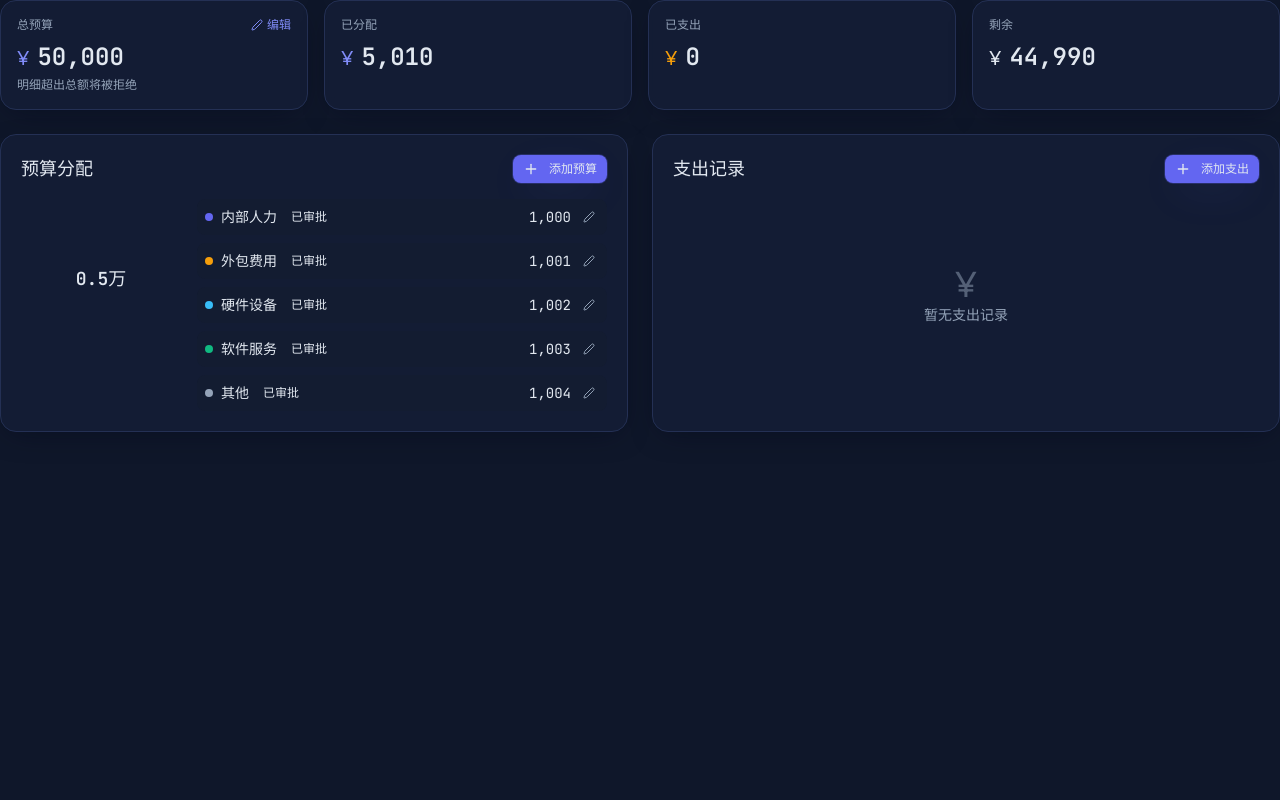
Test: 预算面板全链路（金额输入 E2E） › 类别唯一：全部类别已建立预算时，新建弹窗不再展示表单而是提示在原行上追加
Click the button "添加预算" at coordinates (560, 169), box left=513, top=155, right=607, bottom=183
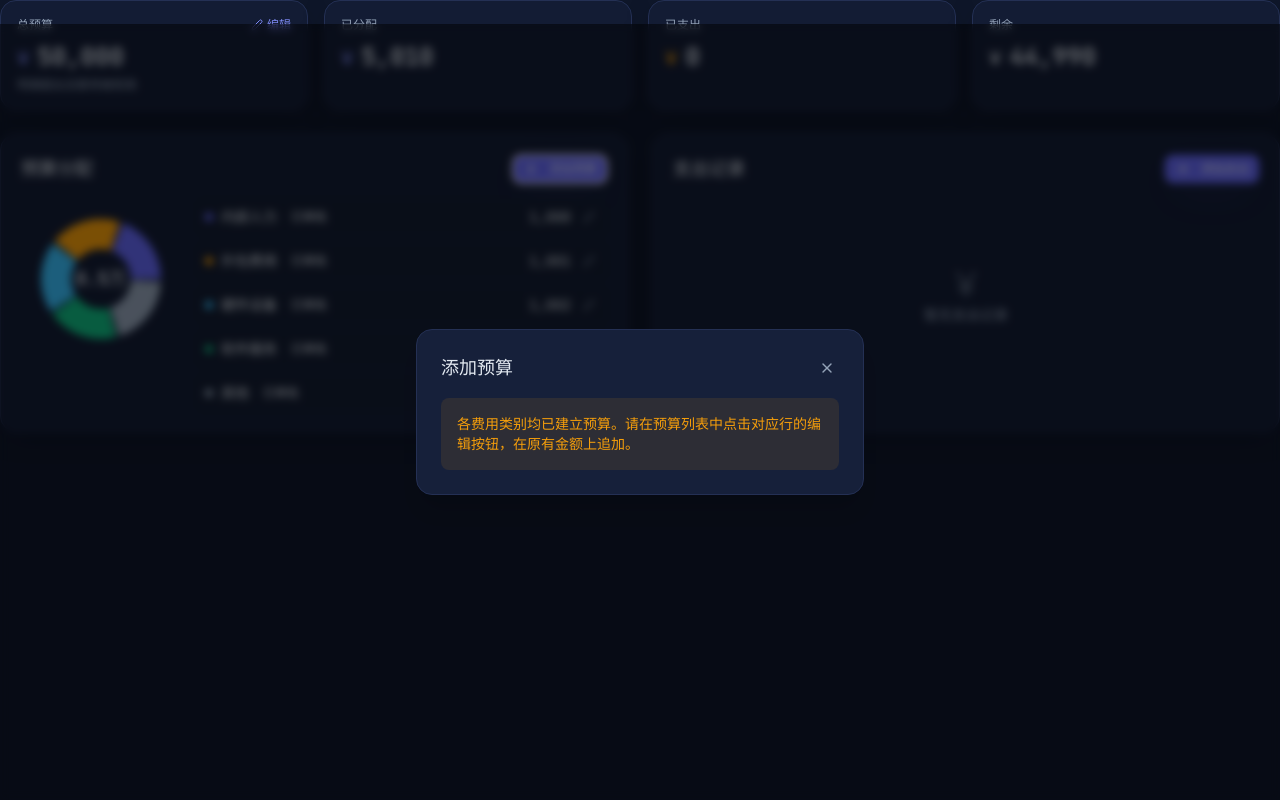
Check: the text "各费用类别均已建立预算。请在预算列表中点击对应行的编辑按钮，在原有金额上追加。" is shown, box left=441, top=398, right=839, bottom=470
